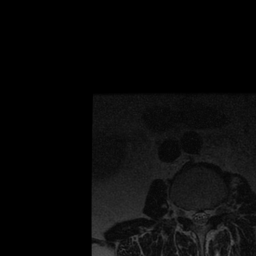CCS_stenosis: (196, 203, 203, 231)
LFS_normal: (210, 201, 218, 222)
LLS_normal: (203, 203, 210, 227)
RFS_normal: (181, 200, 188, 223)
RLS_normal: (189, 202, 196, 226)
